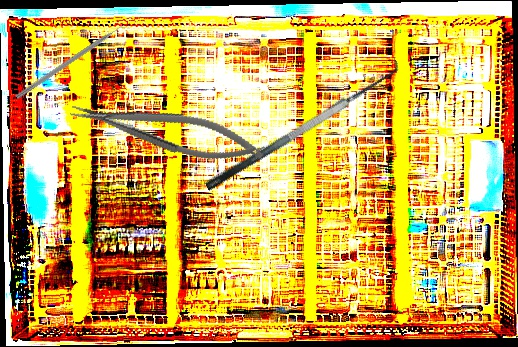Chopper: (15, 20, 132, 106)
Needle Holder: (67, 85, 268, 175)
Spatula Surgical: (194, 52, 407, 192)
